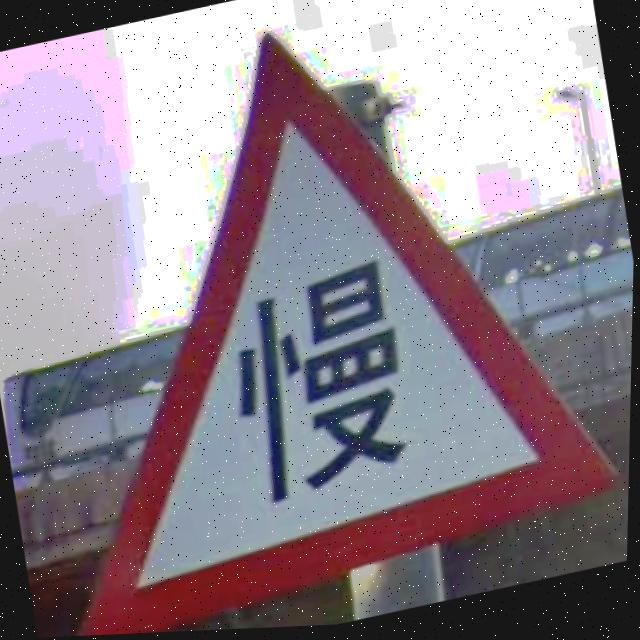slow: (78, 36, 623, 637)
